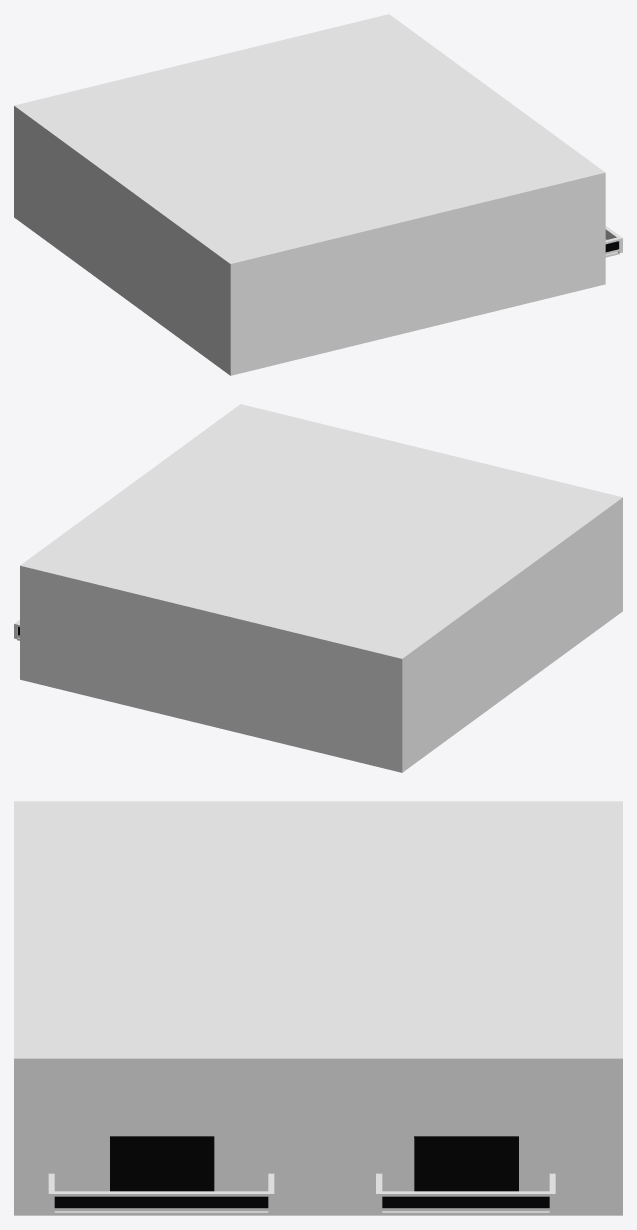
File: Piso.fbx
3 renders of one model, top to bottom at view 1: azimuth 30°, elevation 25°; view 2: azimuth 150°, elevation 25°; view 3: azimuth 270°, elevation 25°, orthographic. The views are drawn at different scales.
Visible parts, largest first — view 1: building_021.005; view 2: building_021.005; view 3: building_021.005.
Part boxes in pixels (box(x1,y1,x2,y2)): building_021.005: box(14, 14, 622, 375); building_021.005: box(14, 404, 622, 772); building_021.005: box(14, 801, 622, 1215).
Bounding box in the file's own units: 2158 × 570 × 2000.
2 materials, 2 textured.
